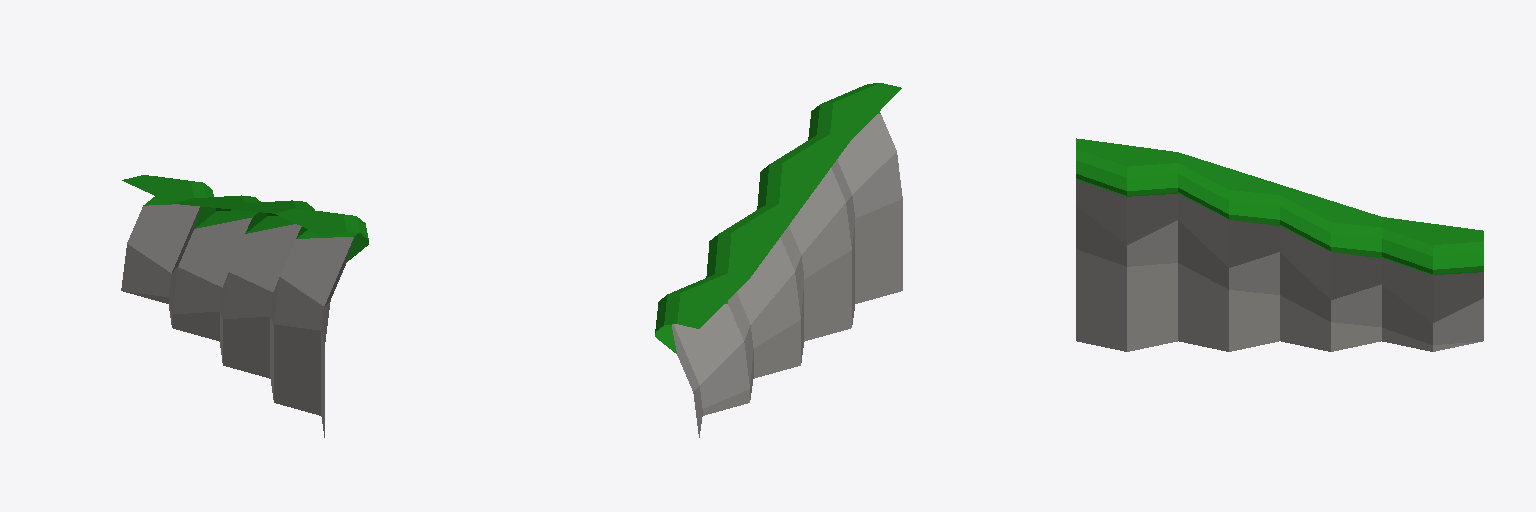
File: Cliff_Terrain_Hill_Gentle_Top.obj
3 renders of one model, left to right at view 1: azimuth 30°, elevation 25°; view 2: azimuth 150°, elevation 25°; view 3: azimuth 270°, elevation 25°, orthographic.
Parts seen in each view (by area): view 1: object1; view 2: object1; view 3: object1.
Part boxes in pixels (bbox=[...]): object1: bbox=[121, 175, 368, 437]; object1: bbox=[655, 83, 902, 437]; object1: bbox=[1076, 138, 1483, 351].
Size of the model in its own units: 0.75 by 2.2 by 4.